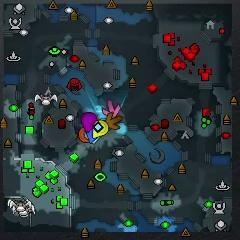p1: (86, 128, 97, 144)
p3: (80, 112, 97, 133)
p4: (93, 120, 109, 139)
p5: (78, 128, 90, 143)
x1: (102, 100, 121, 118)
x3: (93, 136, 100, 144)
x5: (105, 112, 123, 131)
